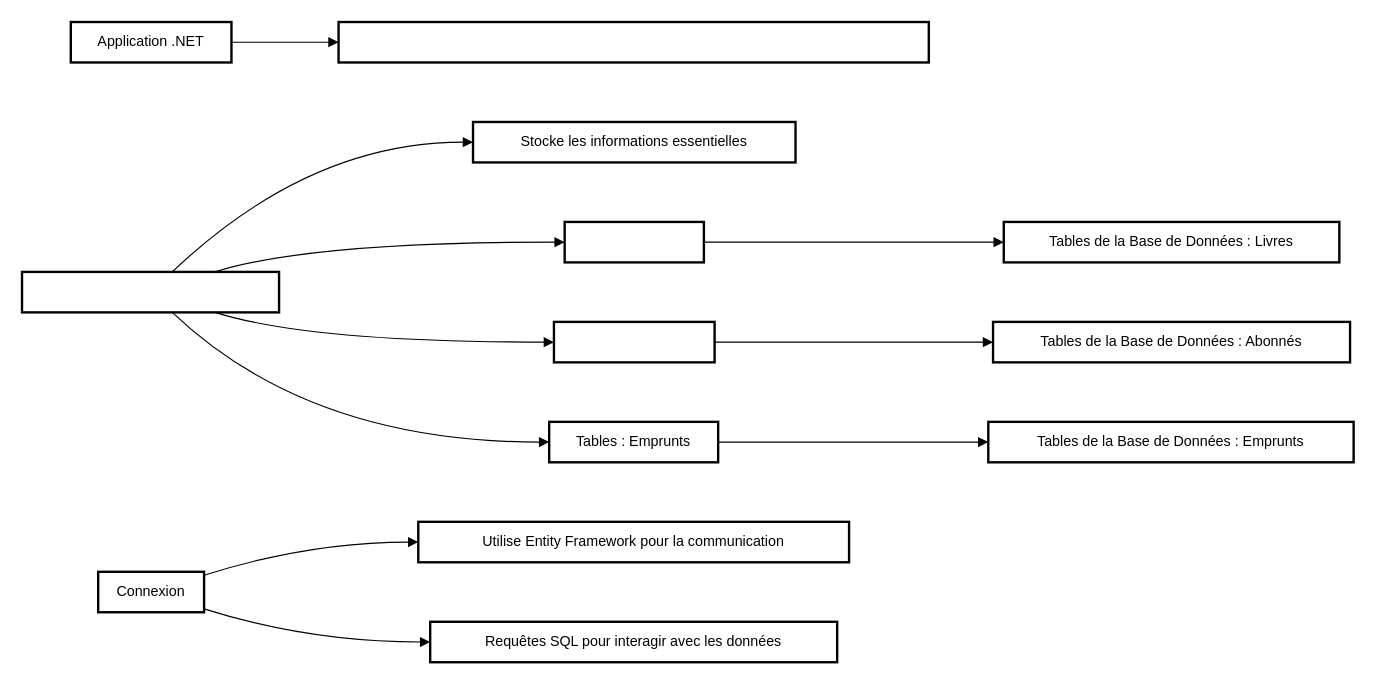
Image size: 1374x683. Some labels were removed from this diagram. Each missing label, with the centre of its shape:
"Base de Données SQL Server" belongs at point 150,291.
"Interface utilisateur pour la gestion de la bibliothèque. Écrit en C#" belongs at point 633,41.
"Tables : Abonnés" belongs at point 633,341.
"Tables : Livres" belongs at point 633,241.
